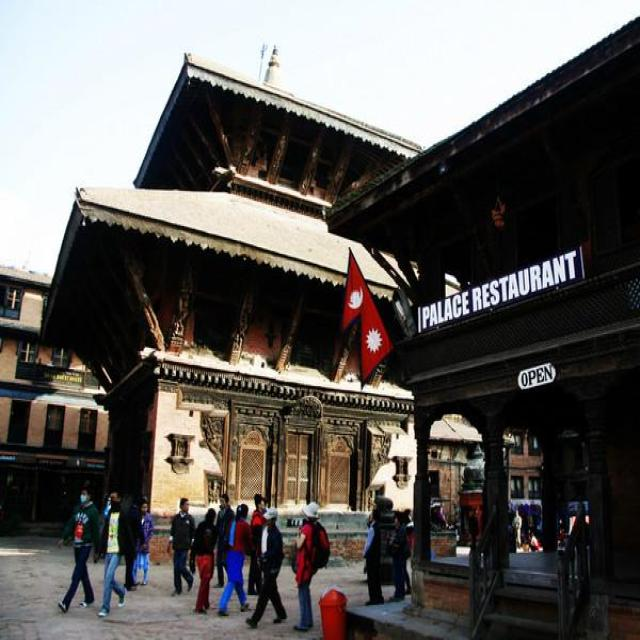non-fight: (58, 487, 106, 615), (292, 495, 332, 633), (214, 496, 254, 618), (172, 494, 198, 599)
